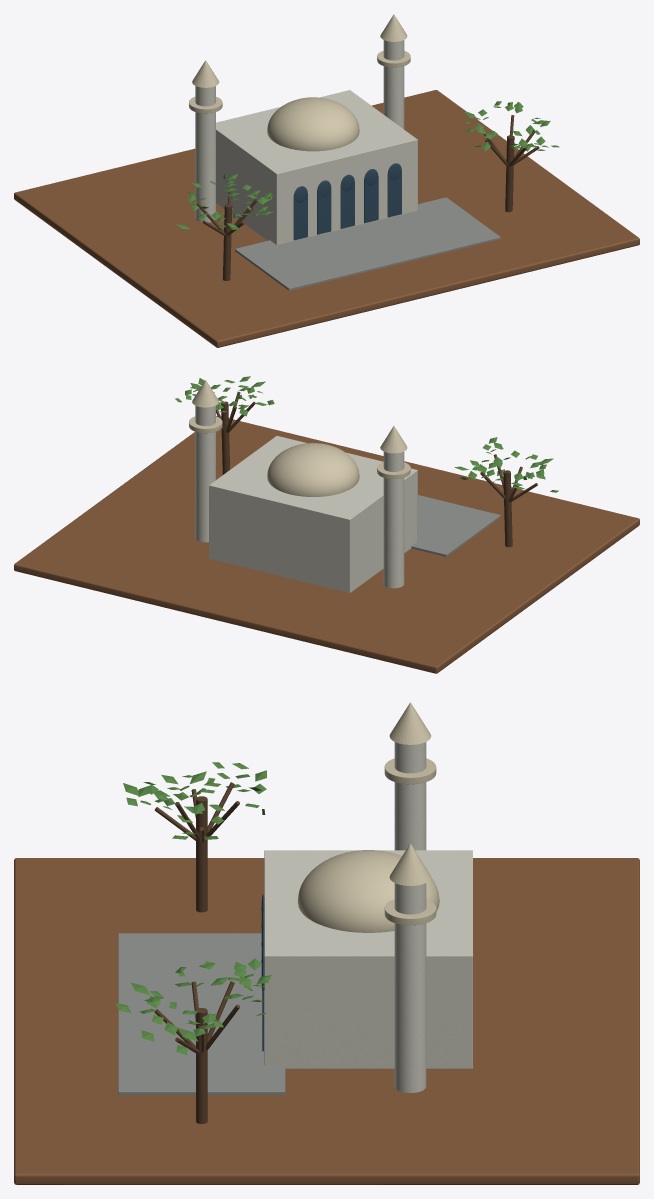
Rendered from courtyard-mosque.glb.
The picture shows the model from 3 angles, top to bottom: view 1: azimuth 30°, elevation 25°; view 2: azimuth 150°, elevation 25°; view 3: azimuth 270°, elevation 25°; orthographic projection. The views are drawn at different scales.
Visible parts, largest first — view 1: Earth plot, Prayer hall, Courtyard, Central dome, Minaret, Minaret.001, Trunk.001, Entrance recess.001, Entrance recess.002, Entrance recess.003, Entrance recess, Entrance recess.004 (+1 smaller); view 2: Earth plot, Prayer hall, Central dome, Courtyard, Minaret, Minaret.001, Trunk, Trunk.001, Cone.001, Cone; view 3: Earth plot, Prayer hall, Courtyard, Central dome, Minaret.001, Minaret, Trunk, Trunk.001, Cone, Cone.001, Balcony.001, Balcony.
Boxes of the visible parts, x1=… form: Earth plot: x1=14, y1=90, x2=639, y2=347; Prayer hall: x1=216, y1=90, x2=417, y2=244; Courtyard: x1=234, y1=197, x2=500, y2=290; Central dome: x1=267, y1=97, x2=359, y2=151; Minaret: x1=195, y1=86, x2=215, y2=222; Minaret.001: x1=383, y1=40, x2=404, y2=129; Trunk.001: x1=505, y1=135, x2=514, y2=212; Entrance recess.001: x1=317, y1=187, x2=331, y2=234; Entrance recess.002: x1=340, y1=181, x2=354, y2=228; Entrance recess.003: x1=364, y1=176, x2=378, y2=223; Entrance recess: x1=293, y1=193, x2=307, y2=240; Entrance recess.004: x1=387, y1=170, x2=401, y2=217; Earth plot: x1=14, y1=416, x2=639, y2=673; Prayer hall: x1=209, y1=436, x2=417, y2=592; Central dome: x1=267, y1=443, x2=359, y2=496; Courtyard: x1=411, y1=495, x2=500, y2=556; Minaret: x1=383, y1=451, x2=404, y2=588; Minaret.001: x1=195, y1=405, x2=215, y2=542; Trunk: x1=503, y1=470, x2=512, y2=547; Trunk.001: x1=221, y1=401, x2=229, y2=474; Cone.001: x1=192, y1=380, x2=219, y2=407; Cone: x1=380, y1=426, x2=407, y2=453; Earth plot: x1=14, y1=858, x2=639, y2=1184; Prayer hall: x1=264, y1=850, x2=472, y2=1068; Courtyard: x1=118, y1=933, x2=285, y2=1095; Central dome: x1=297, y1=850, x2=439, y2=932; Minaret.001: x1=394, y1=883, x2=426, y2=1092; Minaret: x1=394, y1=742, x2=426, y2=850; Trunk: x1=196, y1=796, x2=207, y2=912; Trunk.001: x1=196, y1=1008, x2=207, y2=1123; Cone: x1=389, y1=702, x2=431, y2=744; Cone.001: x1=389, y1=843, x2=431, y2=885; Balcony.001: x1=384, y1=899, x2=436, y2=925; Balcony: x1=384, y1=758, x2=436, y2=784.
Size of the model in its own units: 18 by 6.73 by 15.
7 materials, 2 textured.
